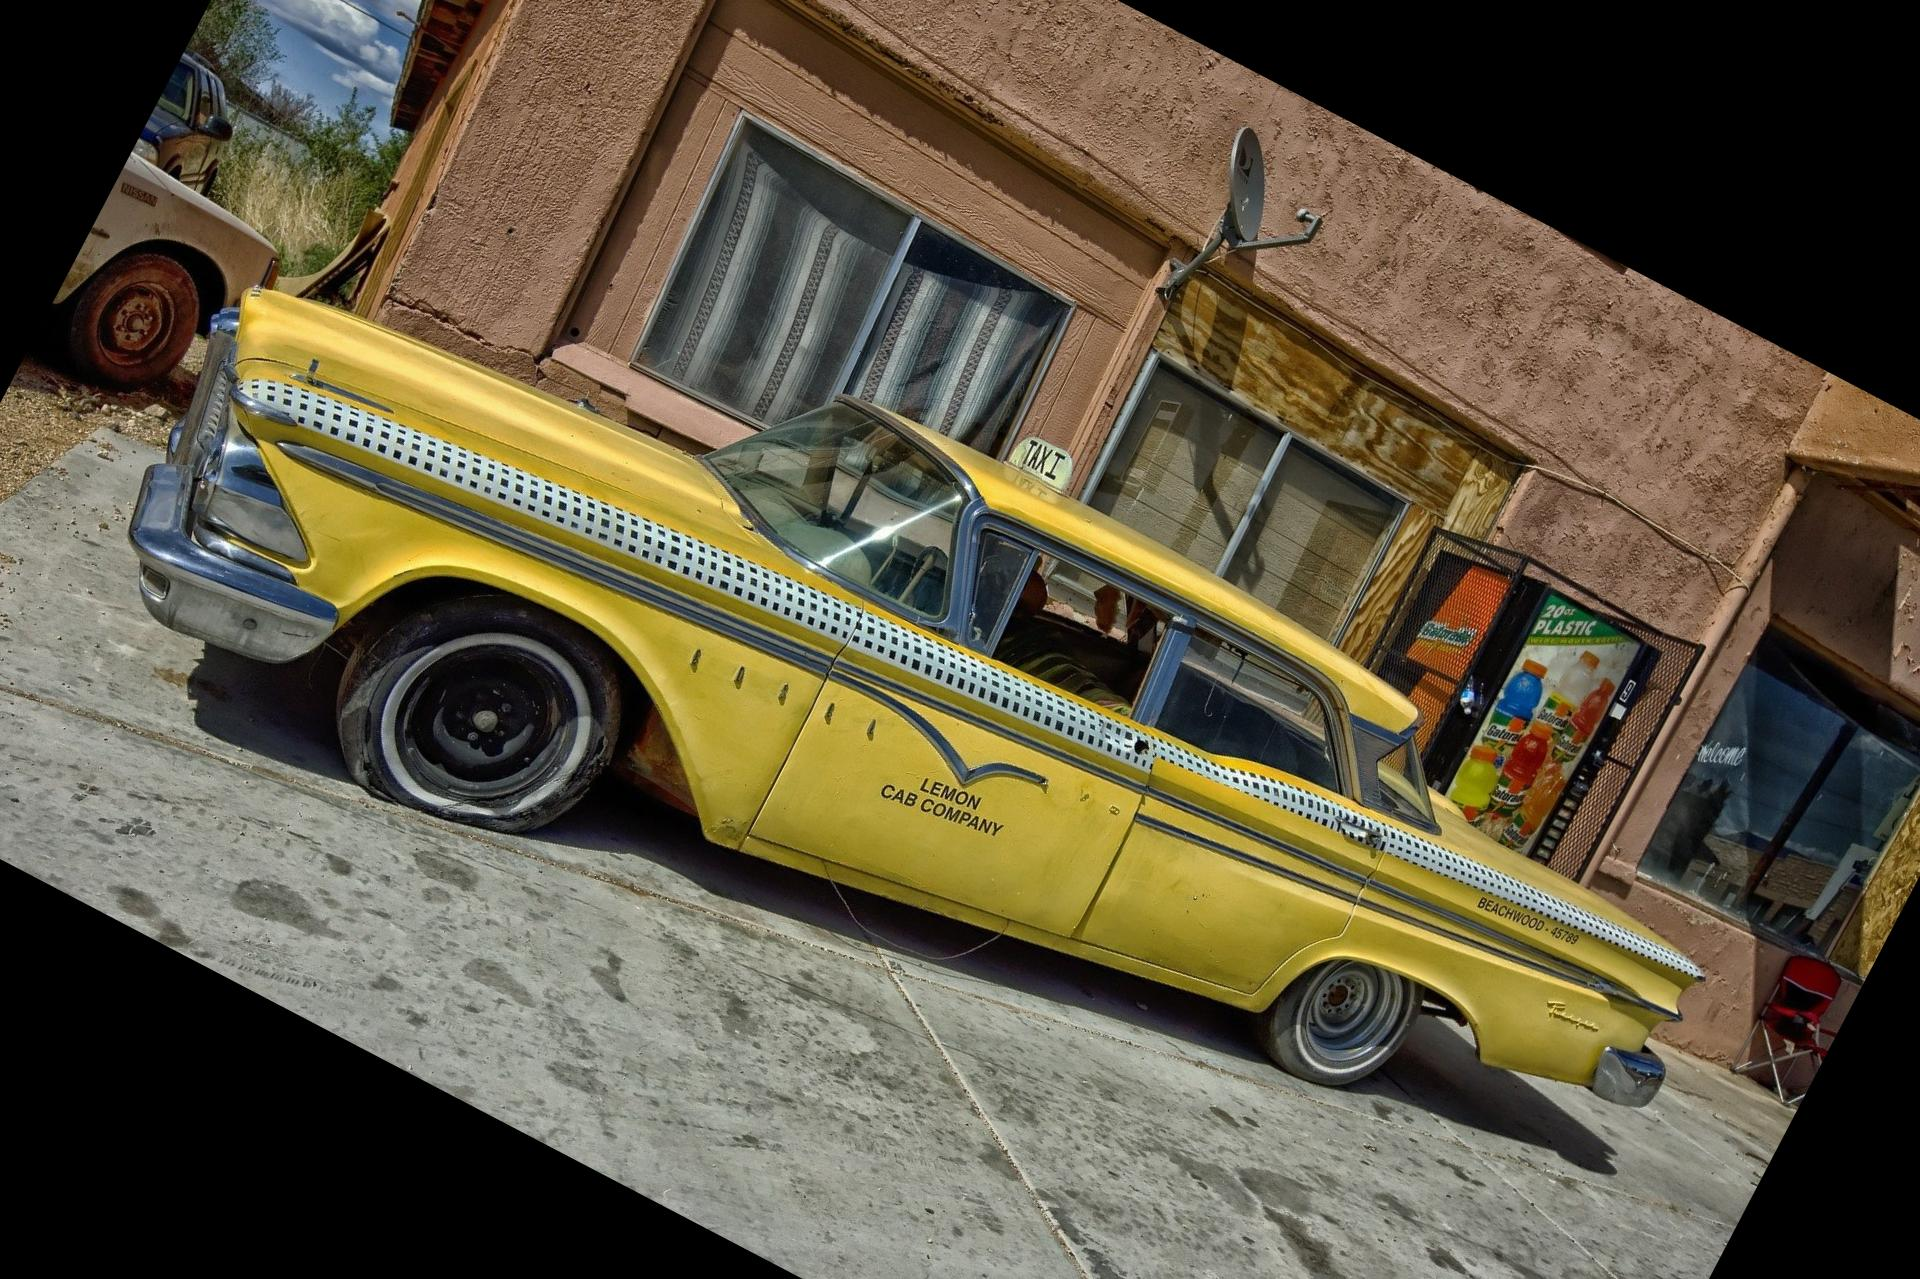taxi: (123, 267, 1707, 1132)
